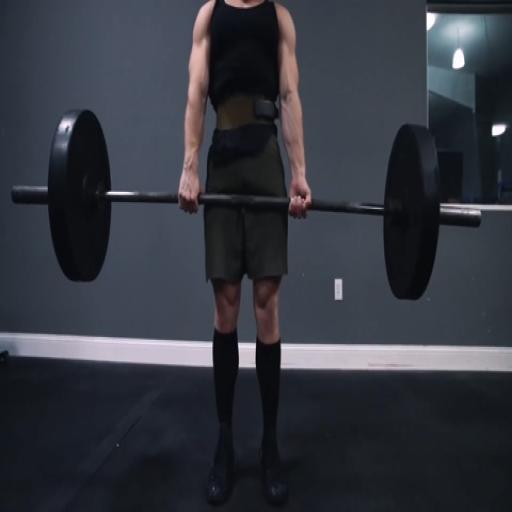exercise: (176, 0, 315, 508)
